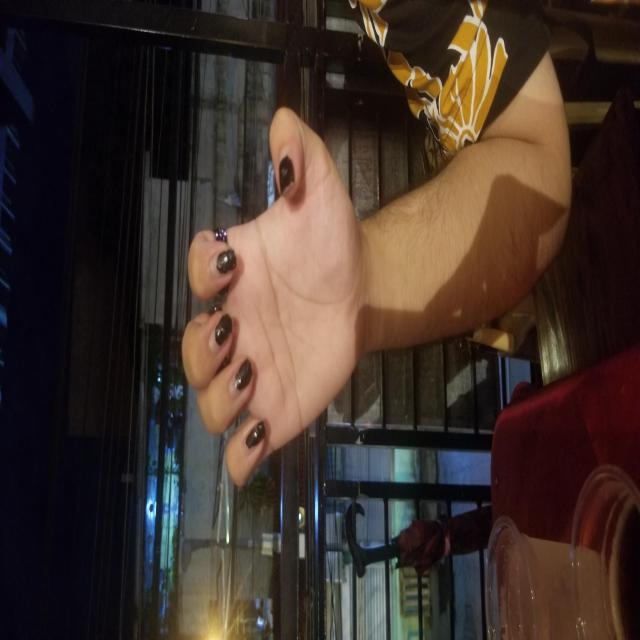E: (147, 179, 536, 359)
